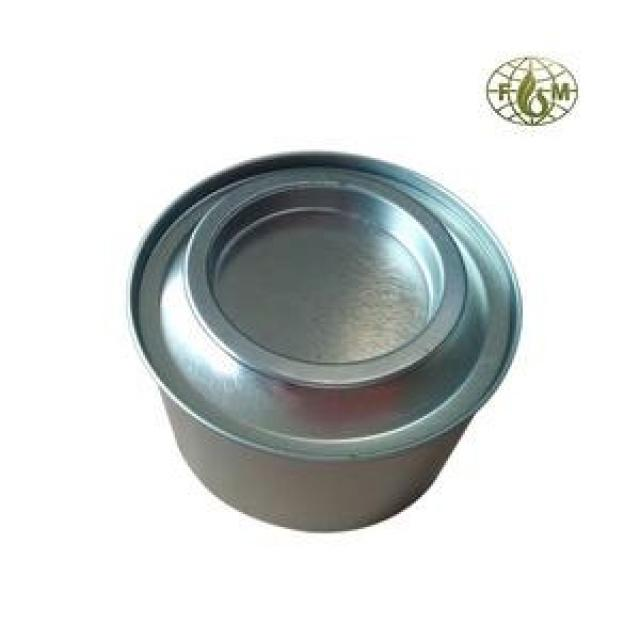metel: (126, 167, 529, 545)
